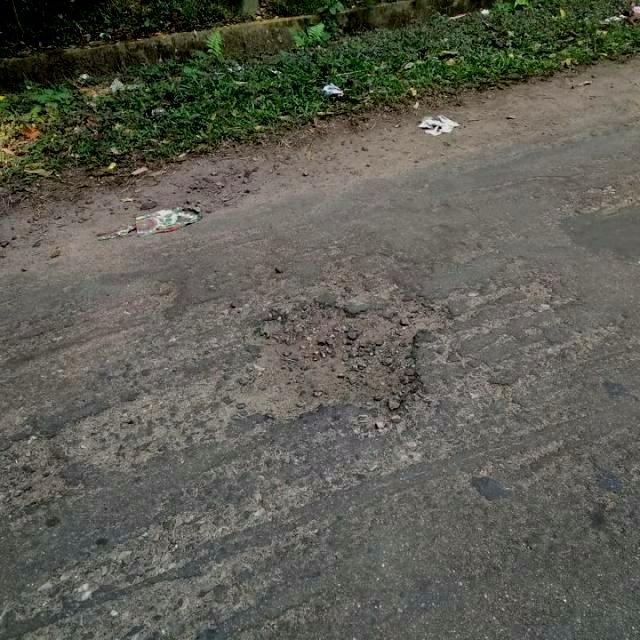Pothole: (236, 295, 455, 422)
